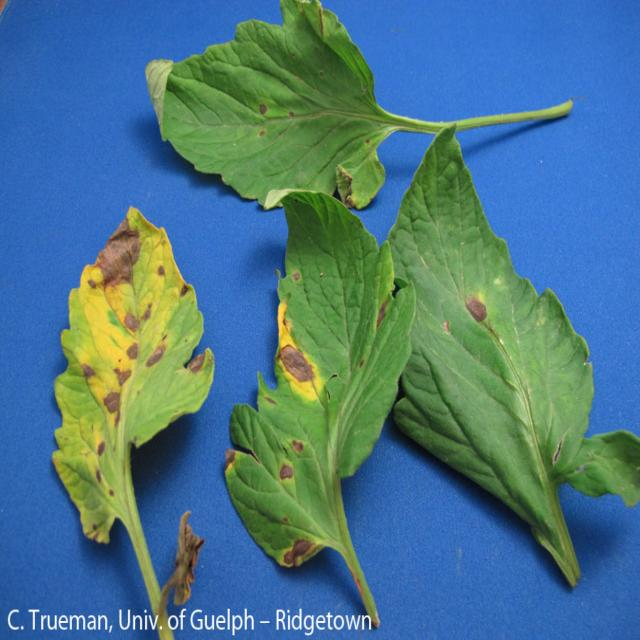Early_blight: (78, 210, 144, 292), (275, 302, 324, 405), (159, 506, 202, 605), (277, 534, 318, 566), (117, 297, 153, 332), (143, 333, 176, 368), (465, 291, 491, 326), (101, 389, 124, 427), (182, 350, 207, 375), (112, 364, 137, 387), (375, 295, 392, 328), (219, 447, 239, 473), (275, 460, 296, 483), (75, 361, 96, 381), (122, 341, 140, 362), (92, 437, 110, 456), (252, 101, 271, 119), (291, 437, 307, 456), (155, 262, 169, 278), (178, 281, 189, 299)
